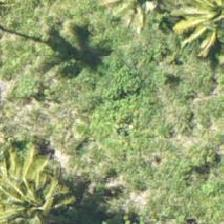Kelapa_Sawit: (0, 147, 60, 223), (174, 0, 223, 47)
